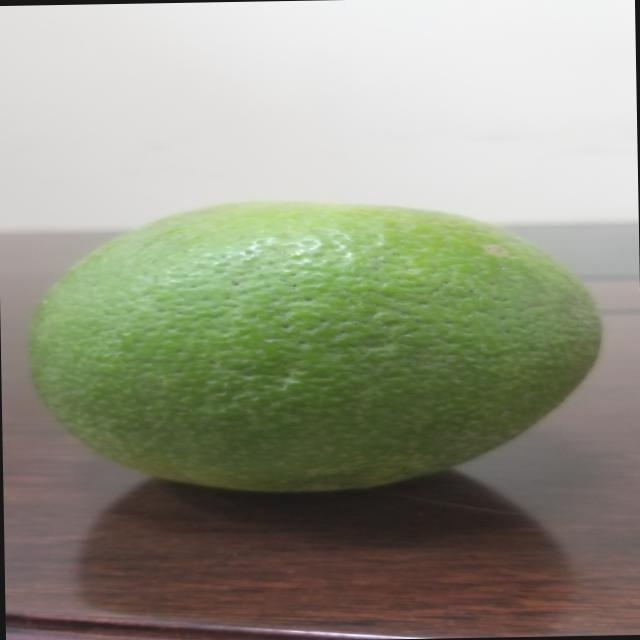agrume: (14, 179, 640, 499)
